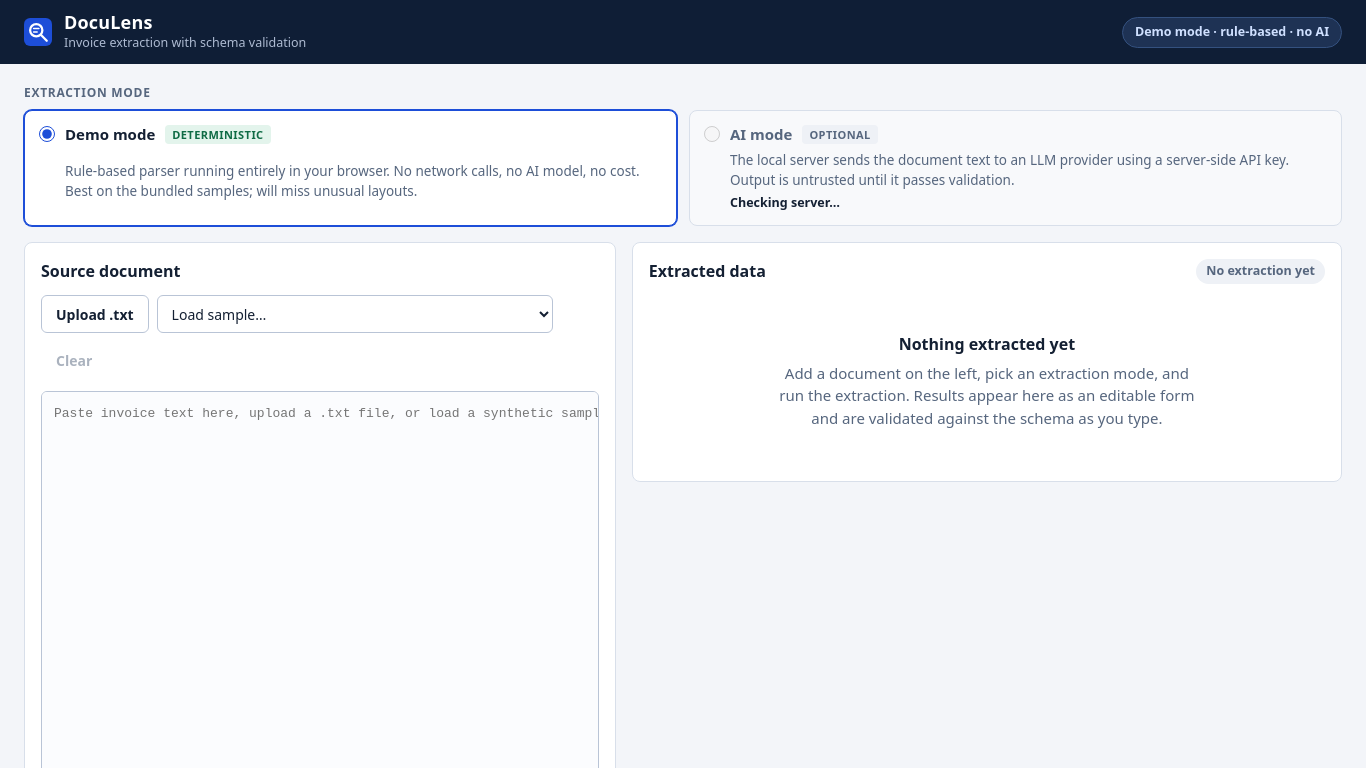
App — demo mode › flags invalid extraction, then valid-with-warnings after correction
The image size is (1366, 768).
Select "Needs review (invalid date, arithmetic mismatches)" in the dropdown named "load a synthetic sample" at (355, 314), box top-left (157, 295), bottom-right (553, 333)
(page scrolled)
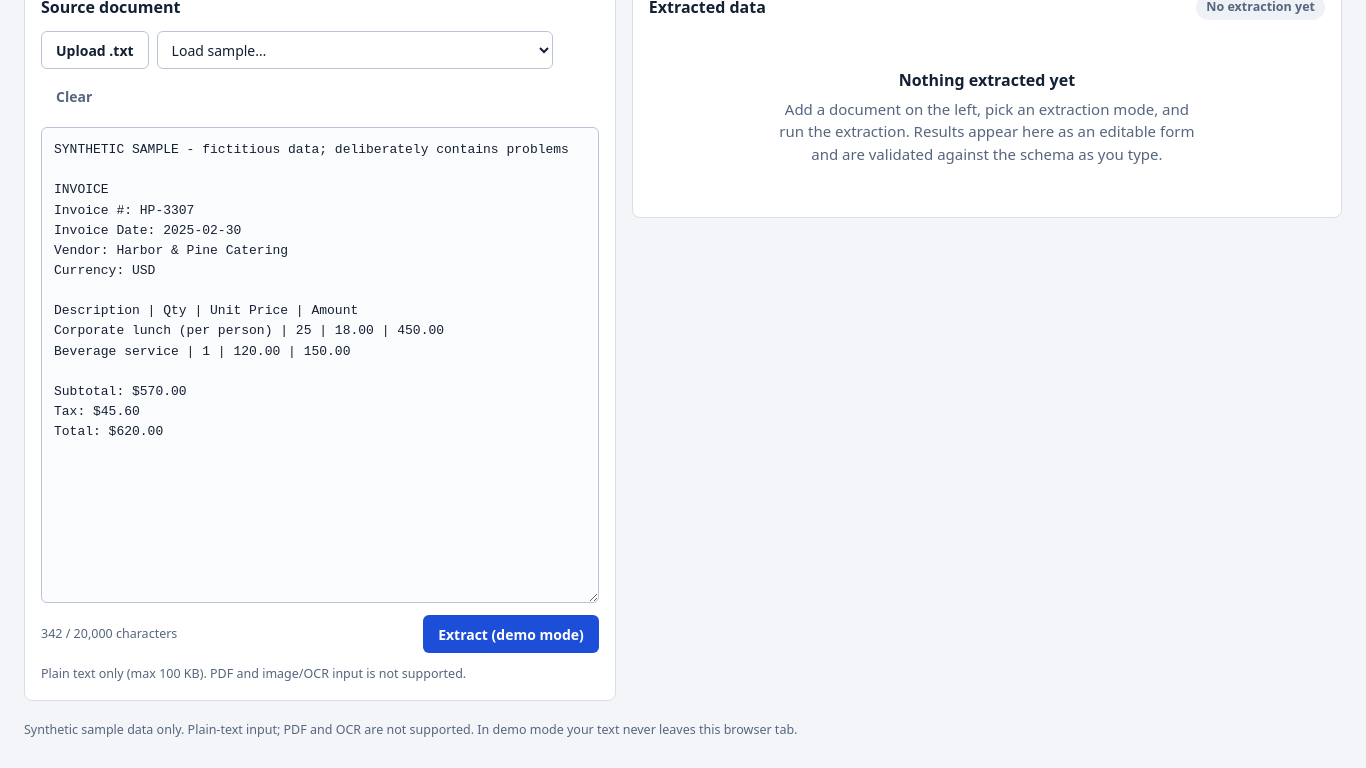
Click the button "Extract (demo mode)".
click(511, 634)  # box top-left (423, 615), bottom-right (599, 653)
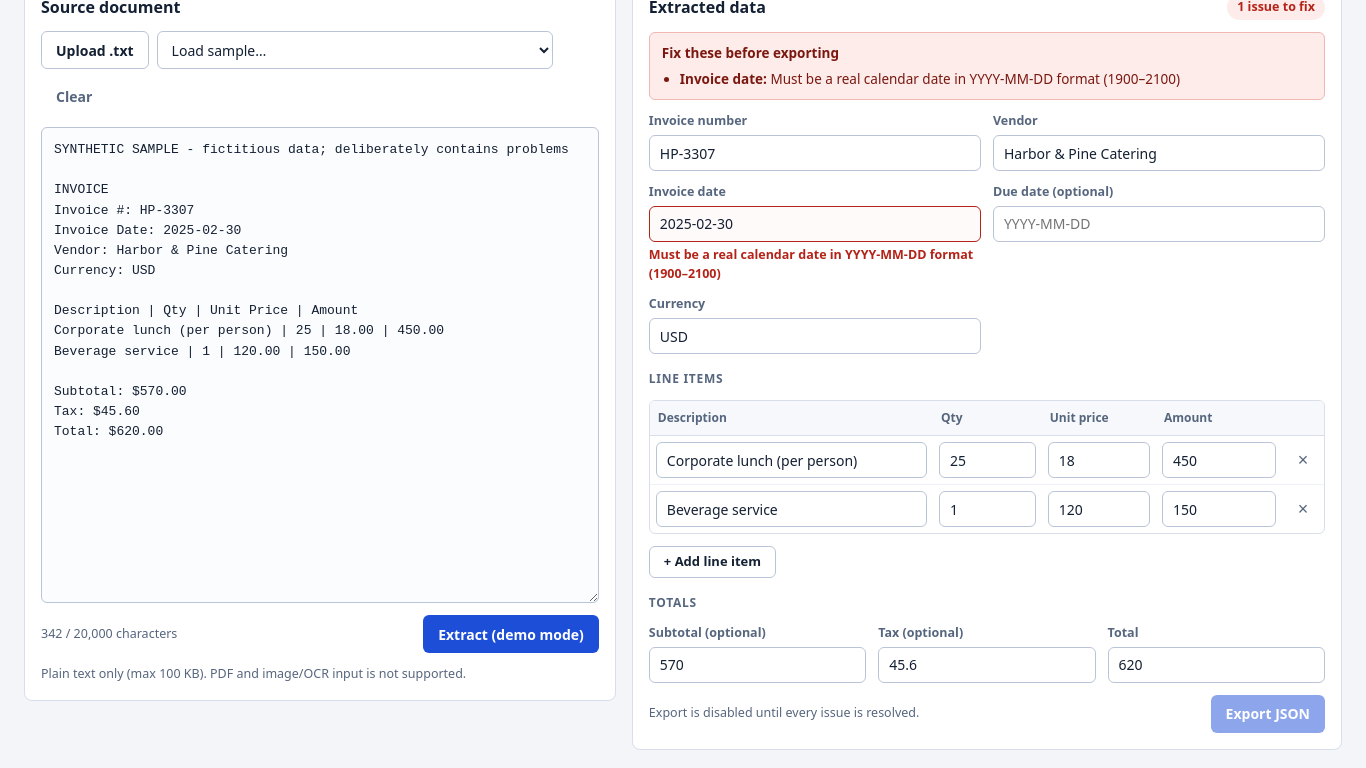
Replace the text in the field labelled "Invoice date" with "2025-02-28" at (815, 224), box top-left (649, 206), bottom-right (981, 242)
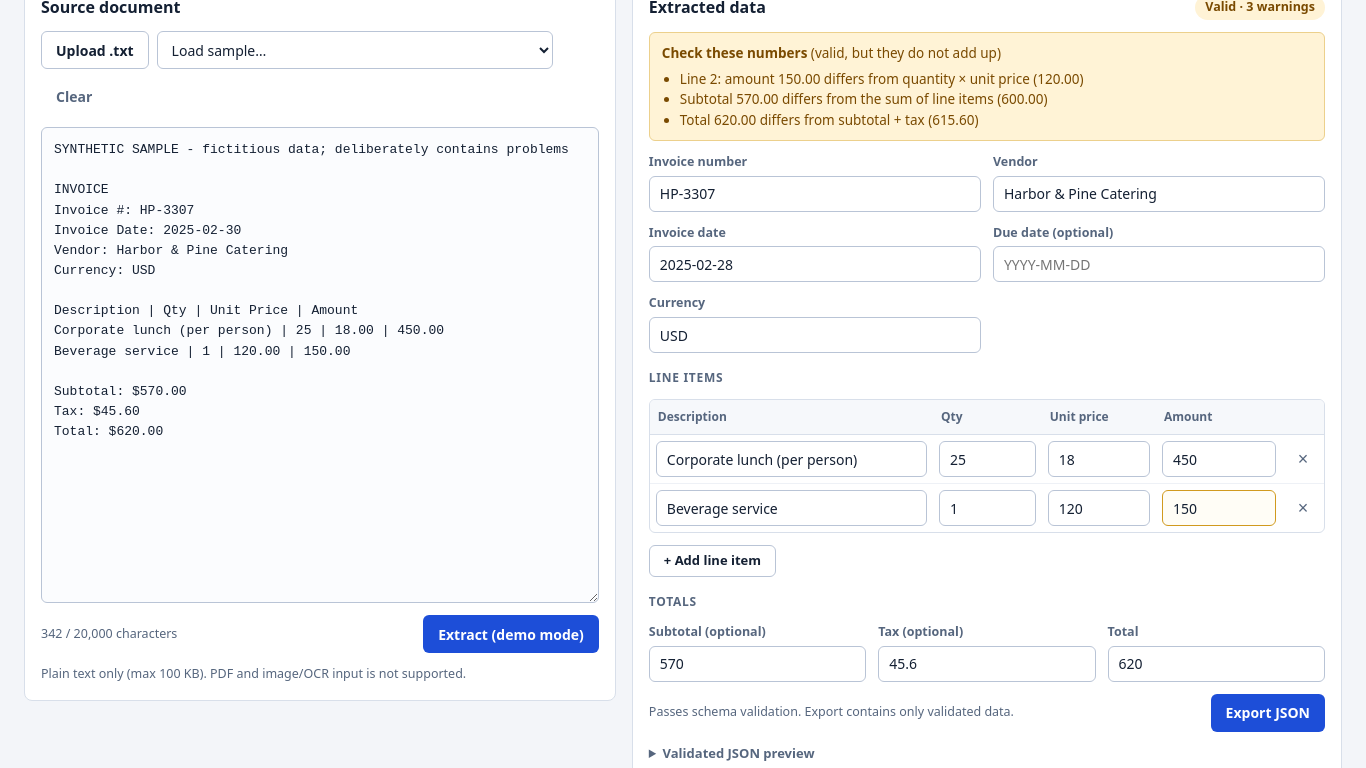
Expected: the text "Check these numbers" is shown, top-left (662, 44), bottom-right (807, 62)
